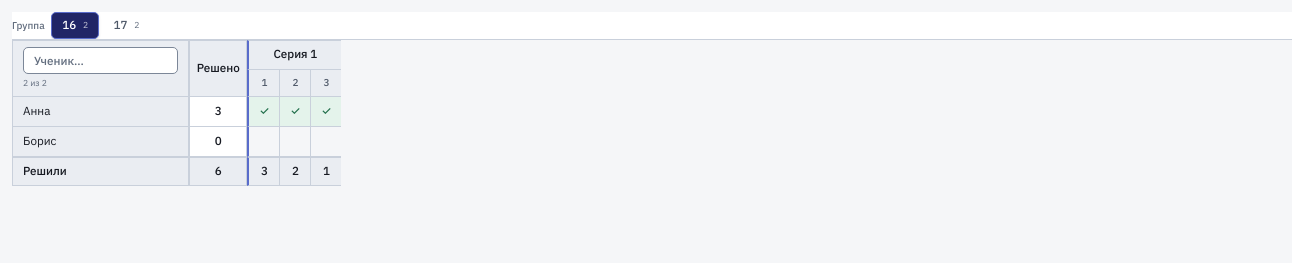
Scenario: ConduitTable › switches groups on one line and offers a center-wide rating
Click the button named "Группа 17": (126, 25) [102,12,150,39]
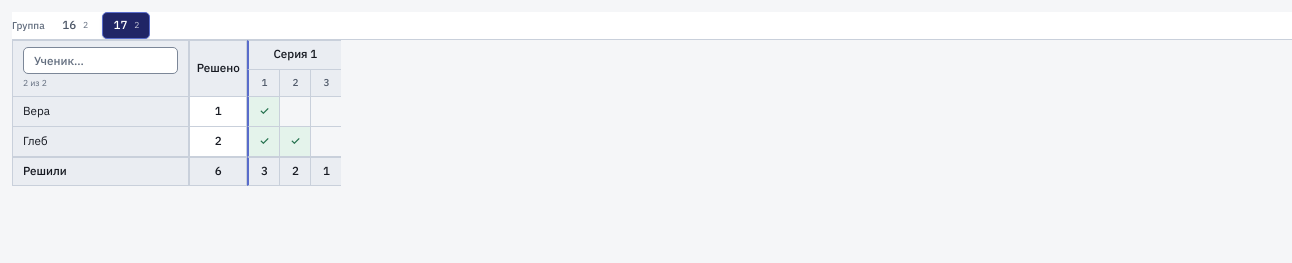
Expected: the button named "Группа 17" is pressed, [102,12,150,39]
// First click: descending rating in the selected group.
Click the button with aria-label "Сортировать учеников по числу решённых задач": (218, 68) [197,60,240,77]
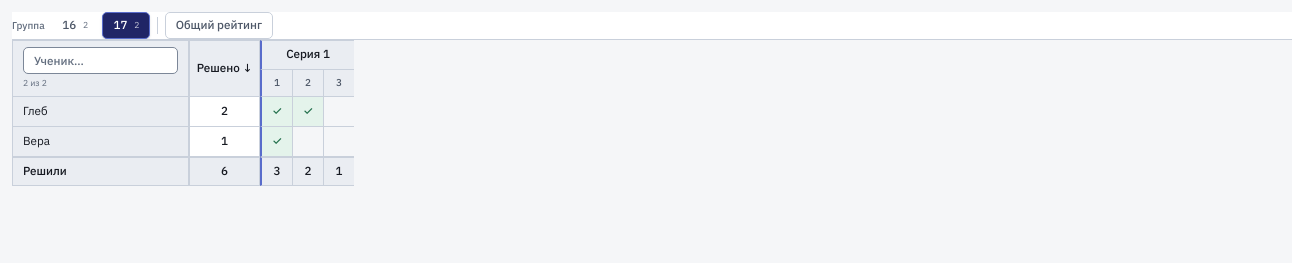
// The same selector line exposes one center-wide rating.
Click the button "Общий рейтинг": (219, 25) [165,12,273,39]
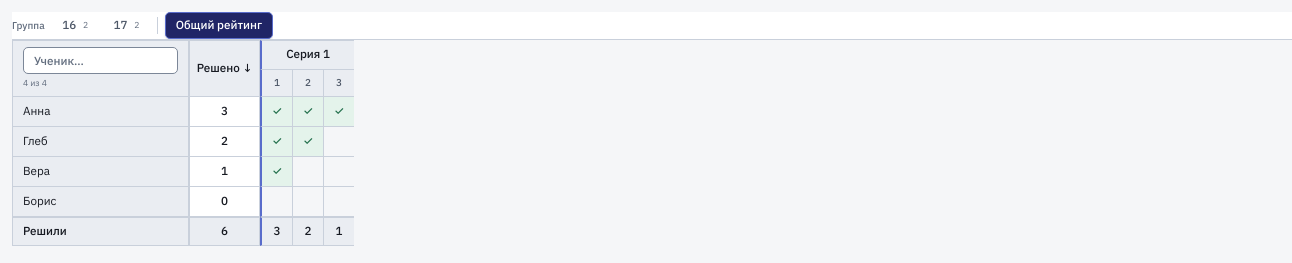
Expected: the button "Общий рейтинг" is pressed, [165,12,273,39]
Click the button named "Группа 16": (75, 25) [51,12,99,39]
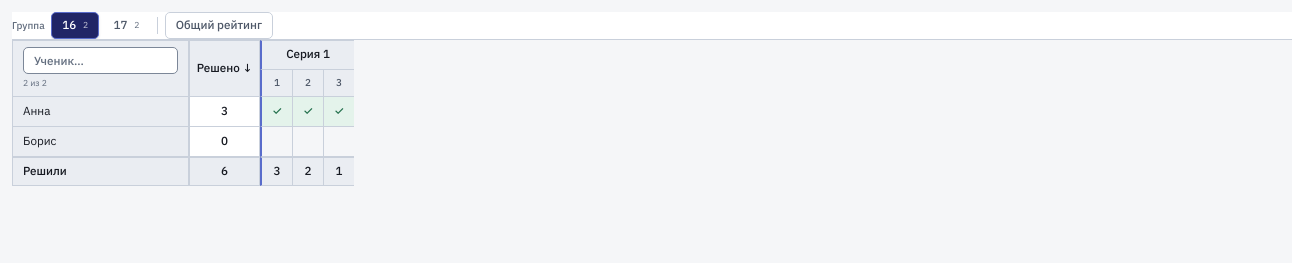
Click the button with aria-label "Сортировать учеников по числу решённых задач": (225, 68) [197,60,252,77]
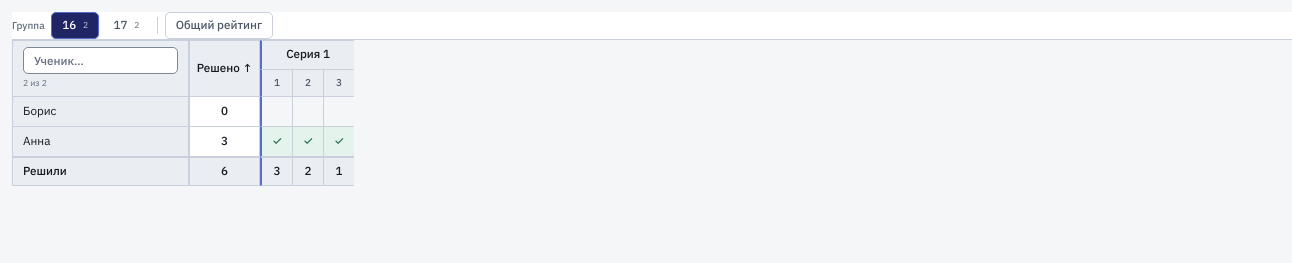
Click the button with aria-label "Сортировать учеников по числу решённых задач": (225, 68) [197,60,252,77]
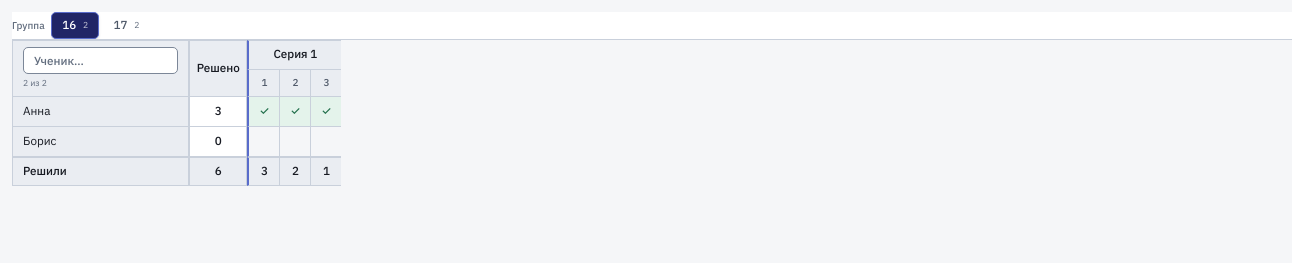
Expected: the button "Общий рейтинг" is gone
